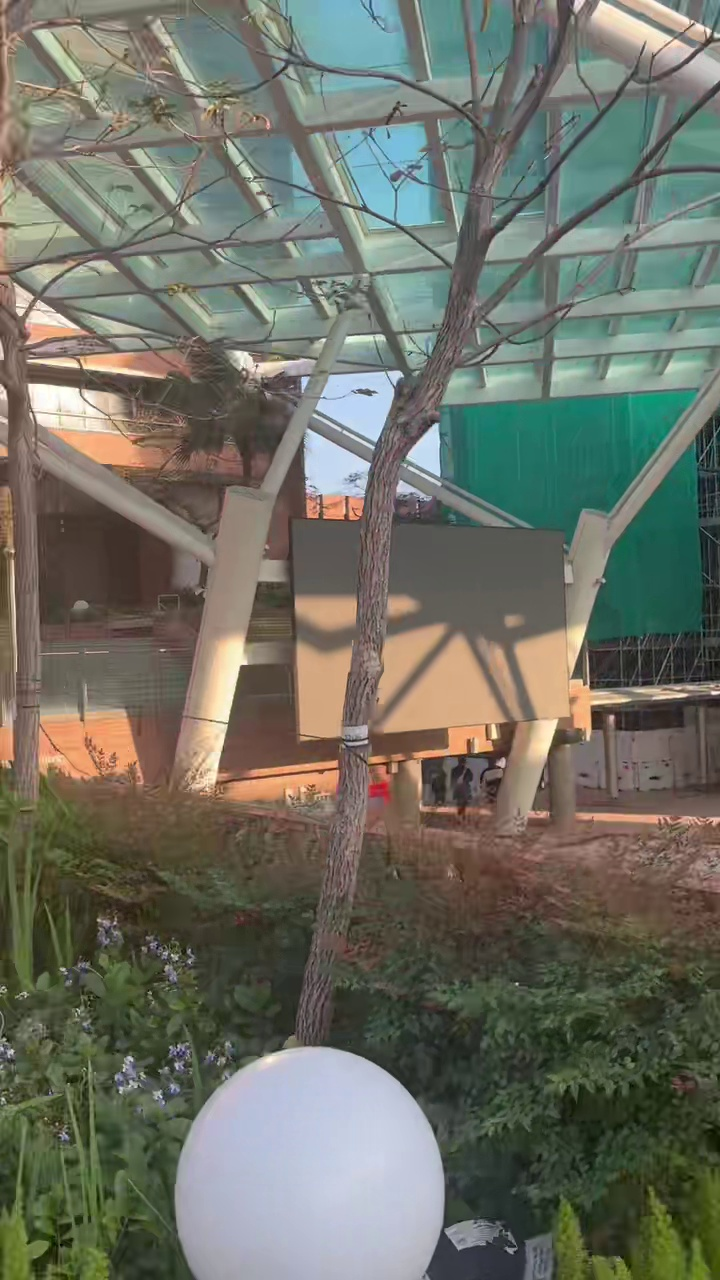Tabebuia chrysantha: (295, 0, 719, 1044)
